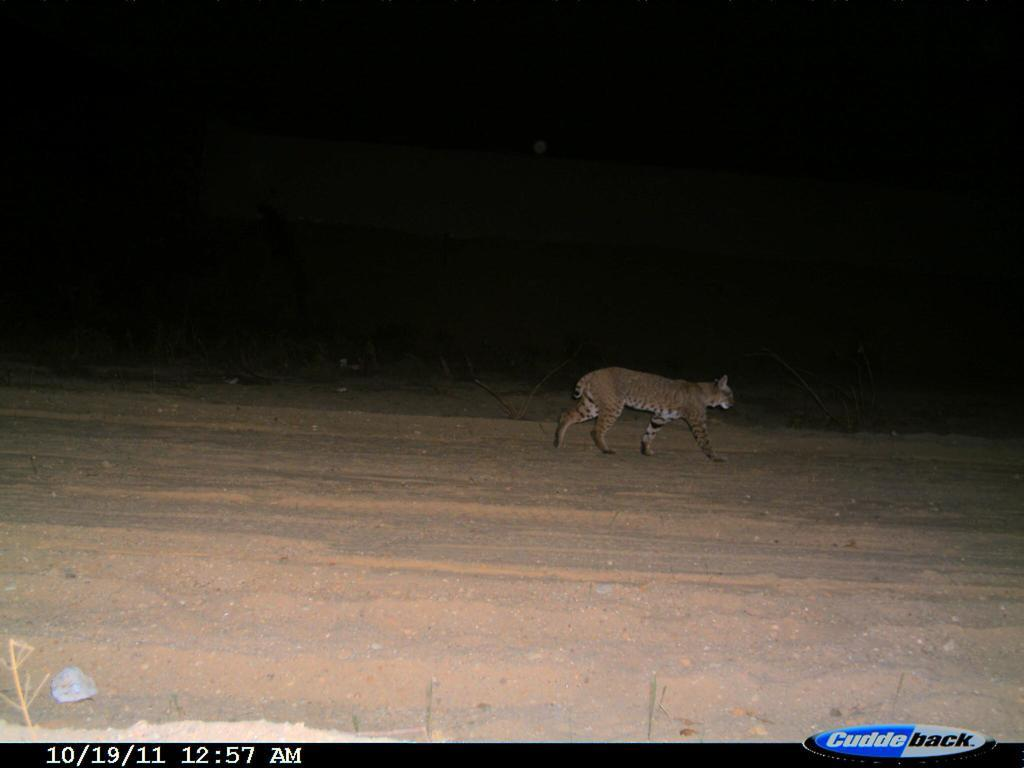bobcat: (552, 364, 738, 465)
